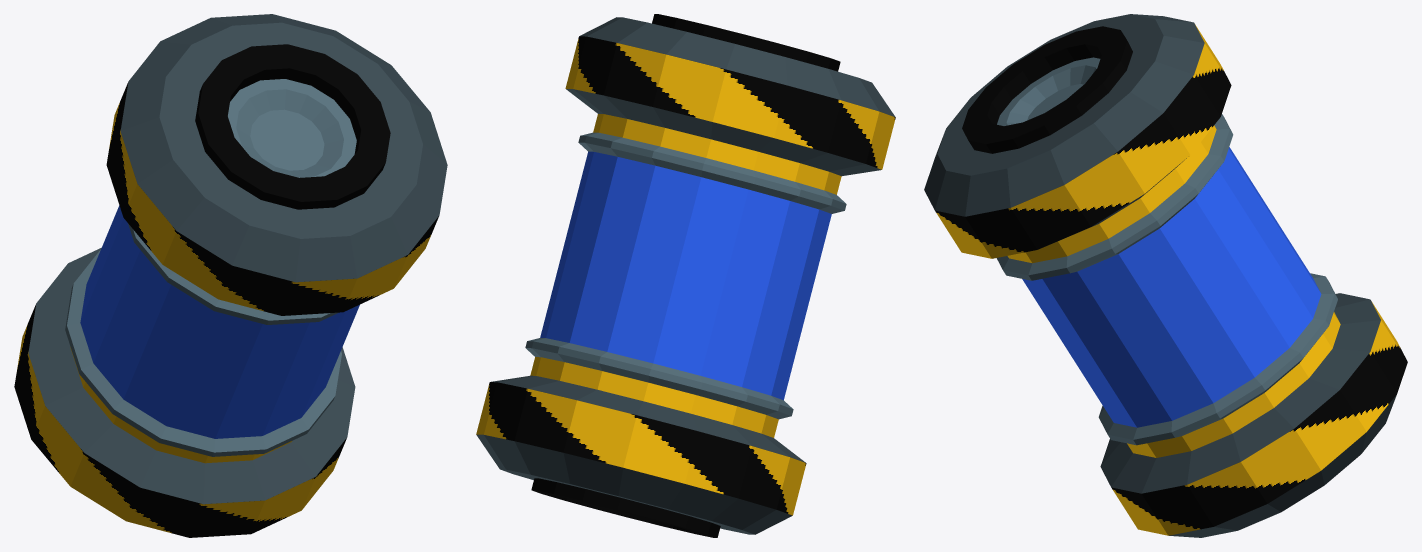
File: Fuel.fbx
The picture shows the model from 3 angles, left to right: view 1: azimuth 30°, elevation 25°; view 2: azimuth 150°, elevation 25°; view 3: azimuth 270°, elevation 25°; orthographic projection. The views are drawn at different scales.
Parts seen in each view (by area): view 1: Fuel; view 2: Fuel; view 3: Fuel.
Boxes of the visible parts, x1,y1,x2,y2 form: Fuel: (14,14,447,537); Fuel: (476,14,895,537); Fuel: (924,14,1407,537).
Bounding box in the file's own units: 1 × 1.64 × 1.49.
Materials: 1 (1 with a texture image).
